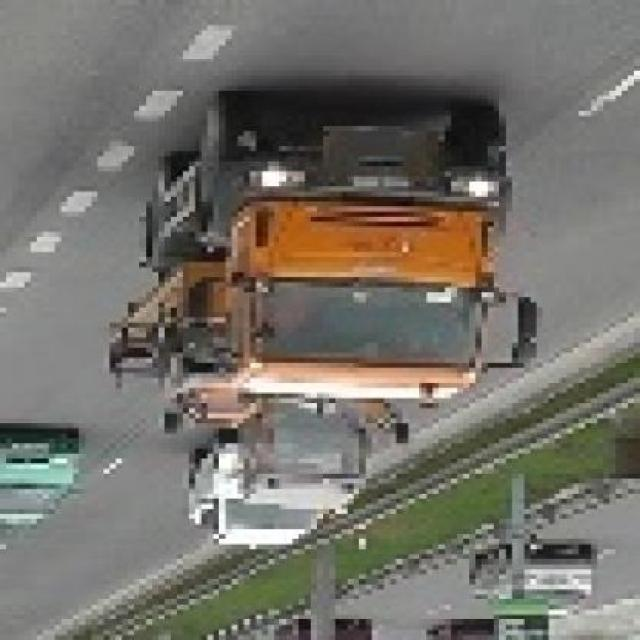truck: (111, 101, 543, 439)
